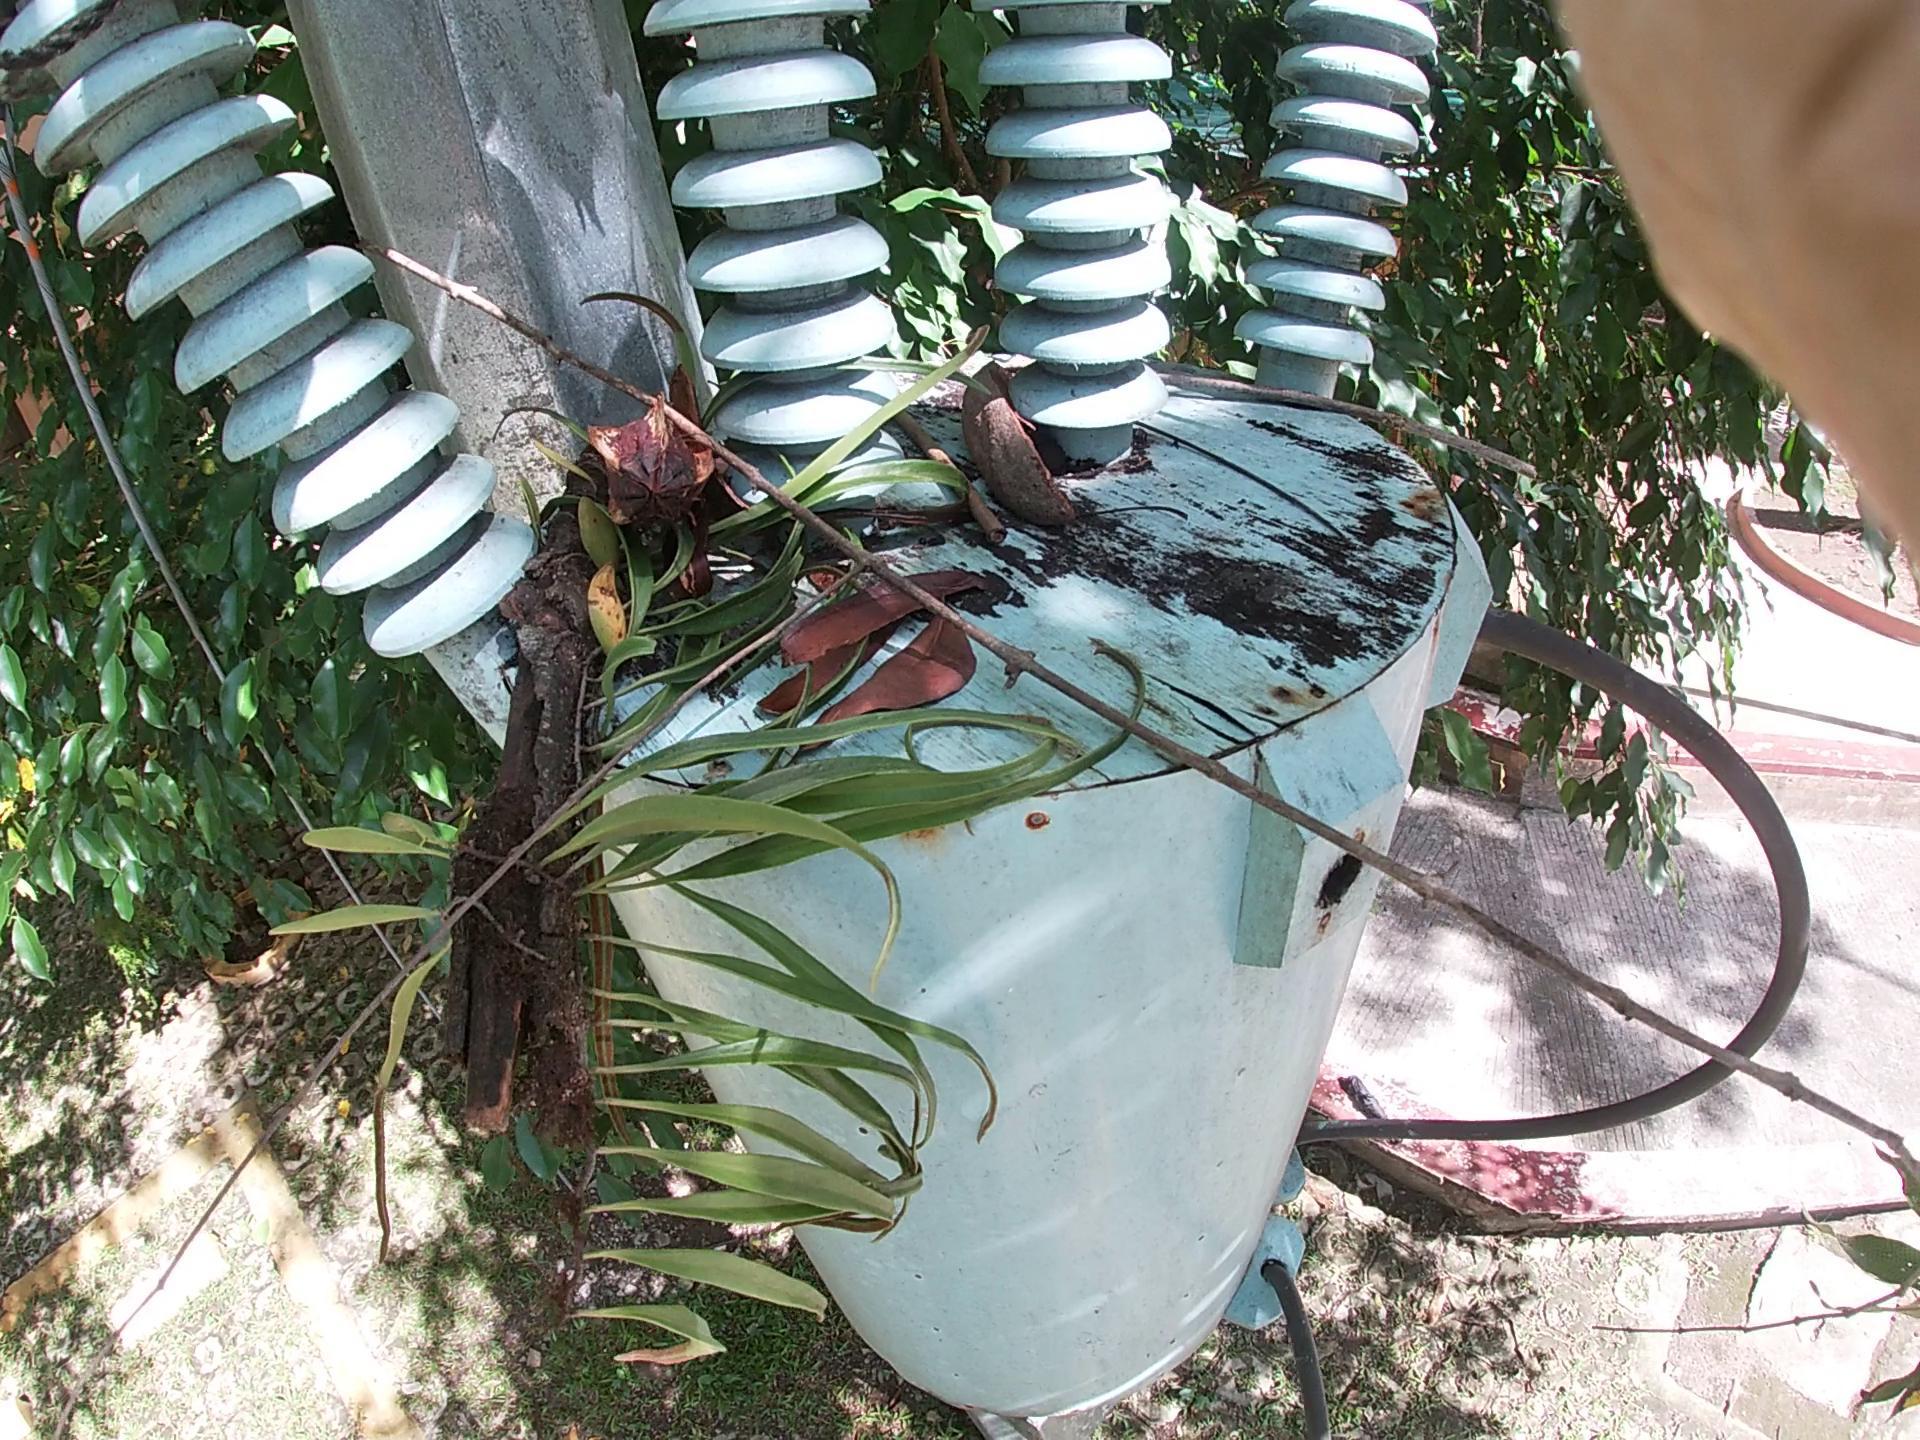branch with leaves: (319, 151, 919, 1193)
leaf: (736, 535, 992, 771)
mahogany fruit: (892, 333, 1157, 560), (599, 383, 703, 540)
tree branch: (429, 289, 1720, 1104), (1160, 346, 1760, 532), (901, 390, 1042, 576)
